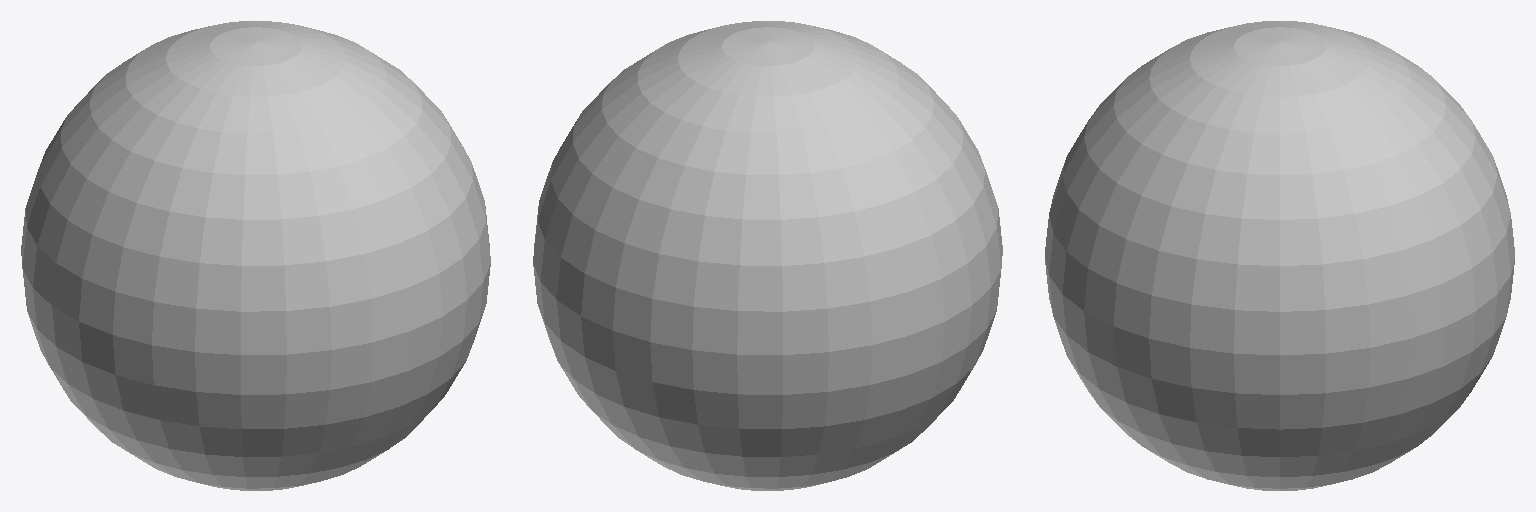
Rendered from ball.obj.
The picture shows the model from 3 angles: view 1: azimuth 30°, elevation 25°; view 2: azimuth 150°, elevation 25°; view 3: azimuth 270°, elevation 25°; orthographic projection.
Visible parts, largest first — view 1: Soccer_Ball_Low; view 2: Soccer_Ball_Low; view 3: Soccer_Ball_Low.
Part boxes in pixels (left/top/right/bottom): Soccer_Ball_Low: left=21, top=21, right=490, bottom=490; Soccer_Ball_Low: left=533, top=21, right=1002, bottom=490; Soccer_Ball_Low: left=1045, top=21, right=1514, bottom=490.
Bounding box in the file's own units: 0.5 × 0.5 × 0.5.